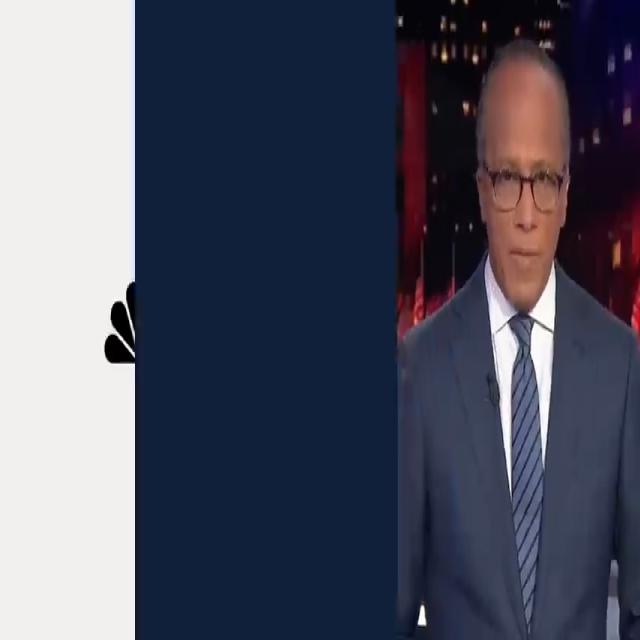non-fight: (400, 28, 639, 640)
